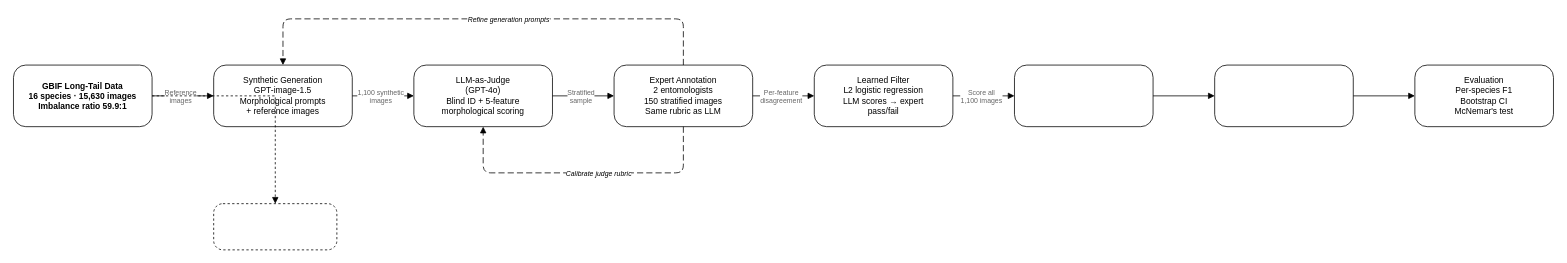
Image size: 1567x263. Some labels were removed from this diagram. The shapes that lost their labels are listed below. From the top down, each one's centre as x and y in pixels, then its label:
(1083,95): Dataset Assembly Real + filtered synthetic (D6)
(1283,95): ResNet-50 Classifier 5 seeds · 100 epochs
(275,226): Copy-Paste (CNP) SAM segmentation (comparison baseline)
